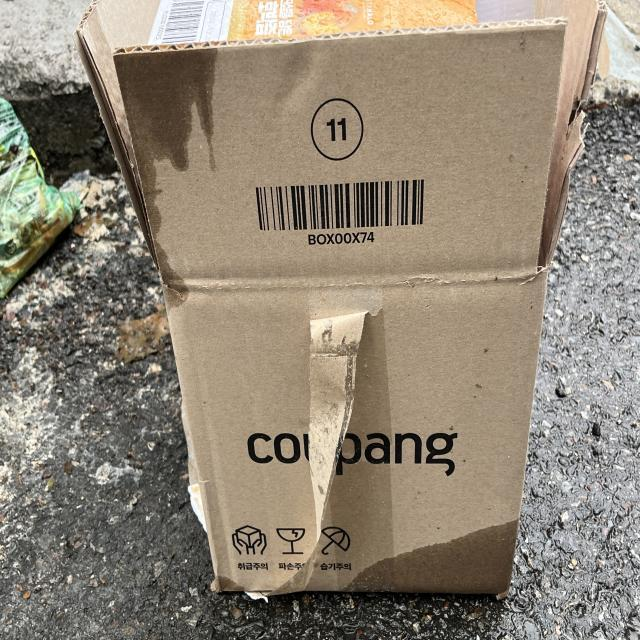wet: (114, 45, 227, 312), (343, 506, 521, 612)
